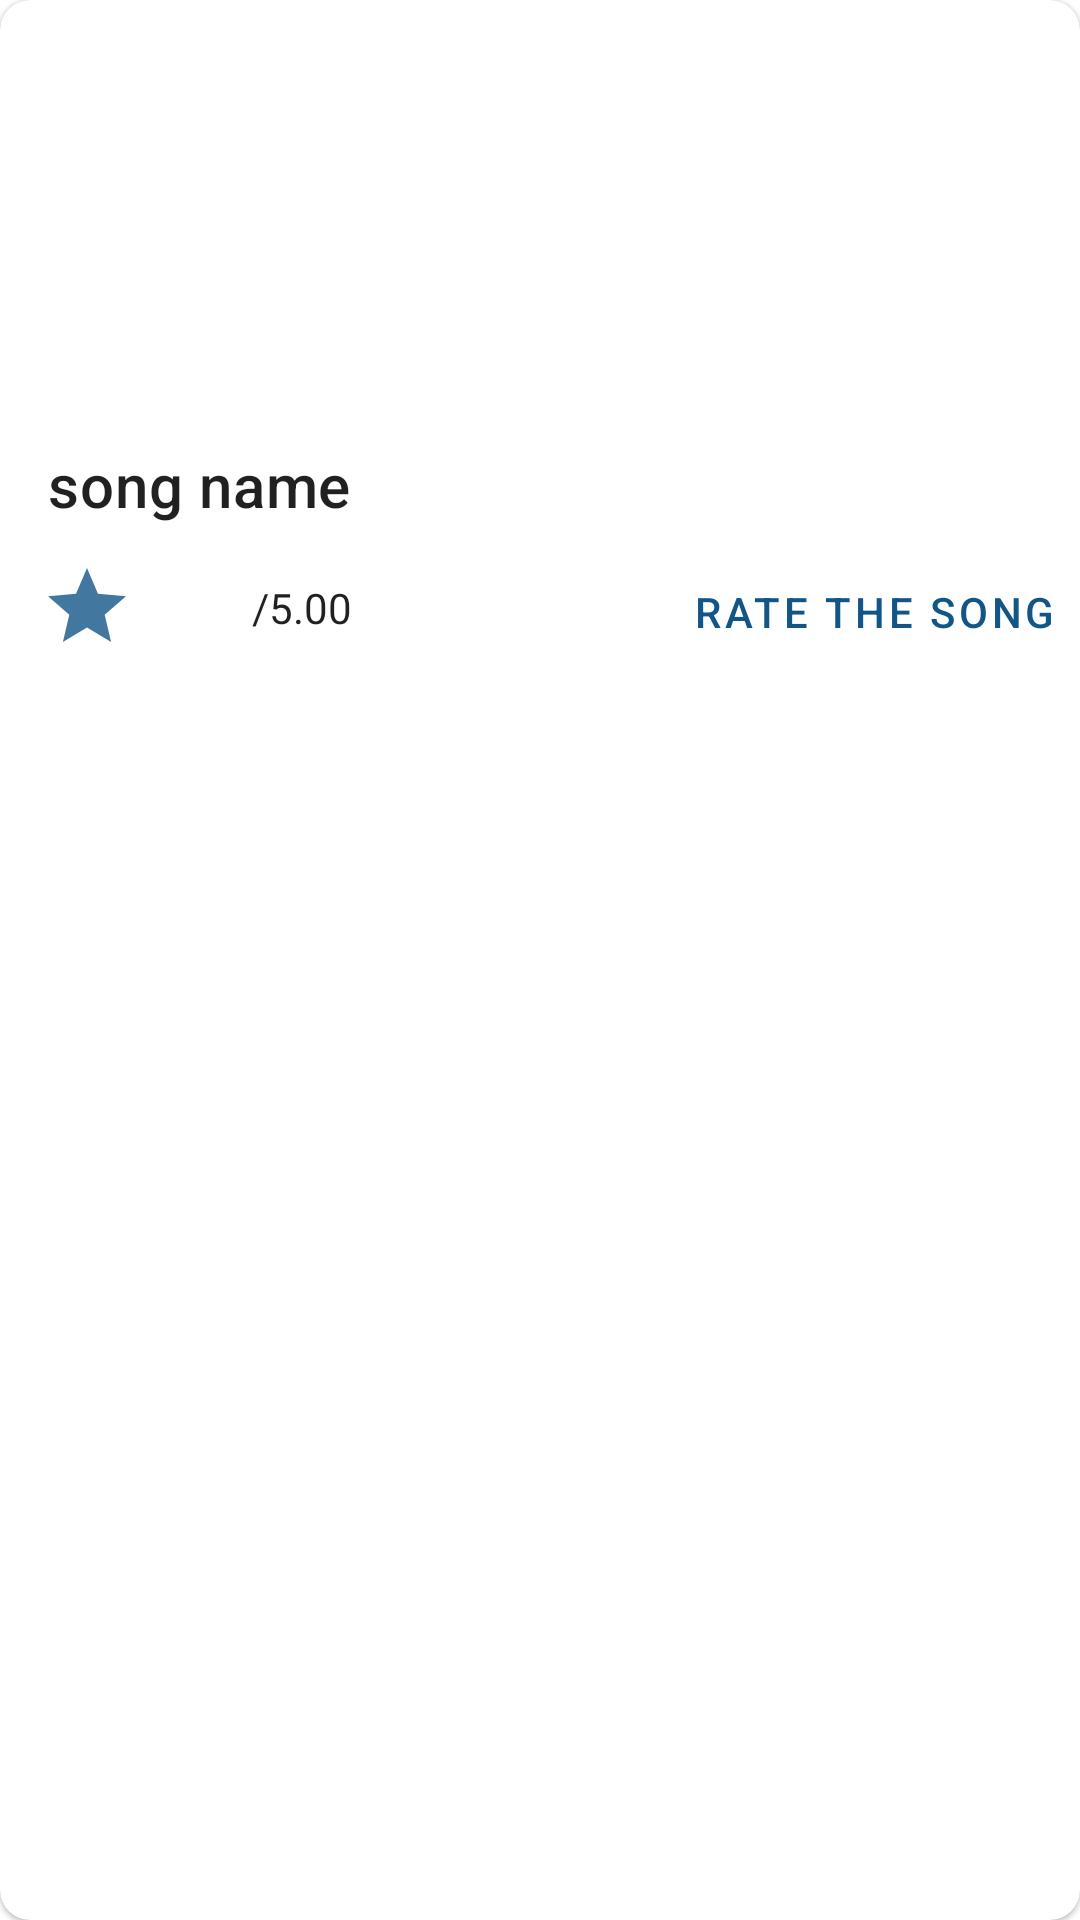

Screen size 1080 x 1920. Icon name, then its box in pixels as [x1,y1,x2,y2]:
image for ratings: [48,568,126,642]
